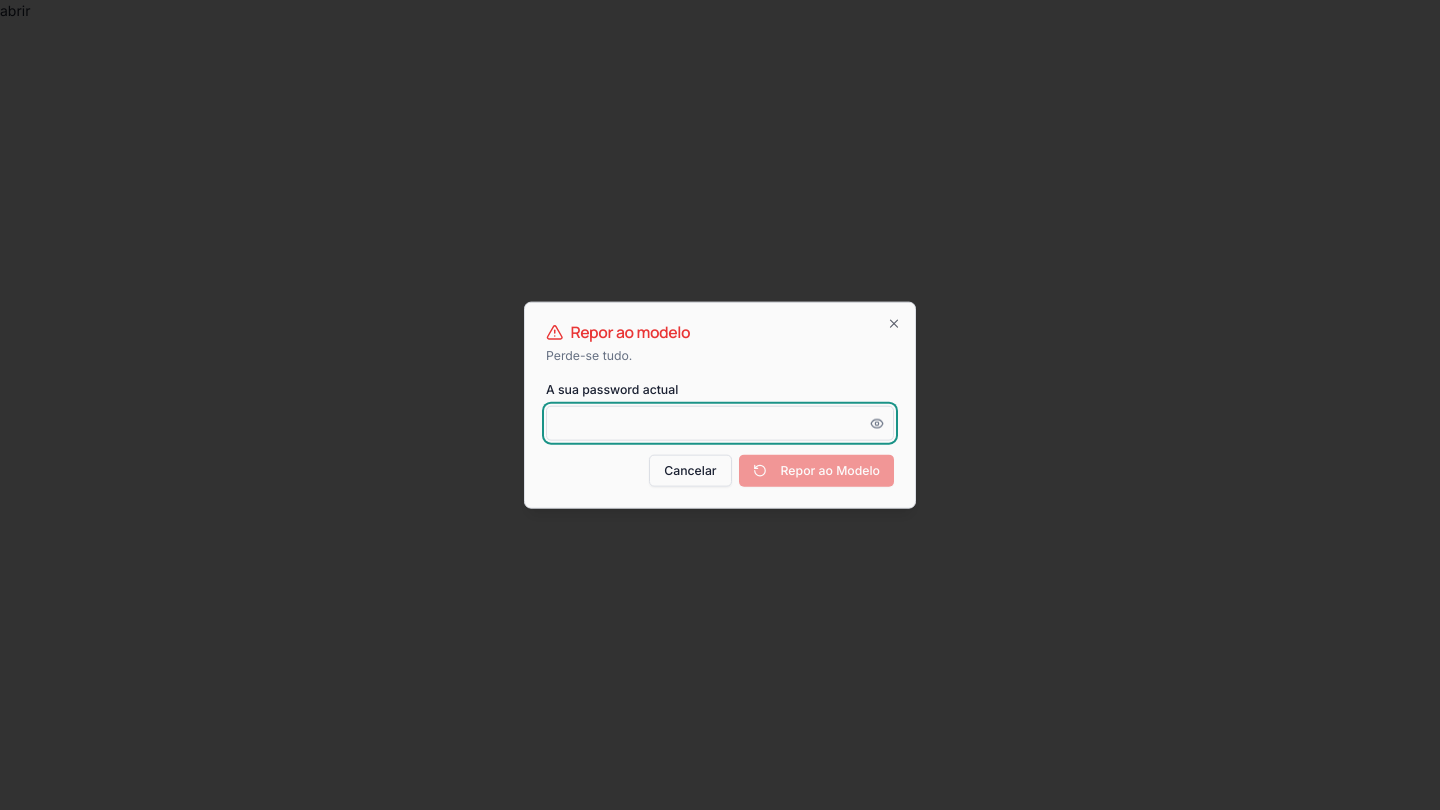
Test: ReporAoModeloDialog › password errada: mostra o erro no diálogo, limpa o campo e NÃO fecha
Step 1. Type "errada" into the password field labelled "A sua password actual" → {"x": 720, "y": 423}, box [546, 406, 894, 441]
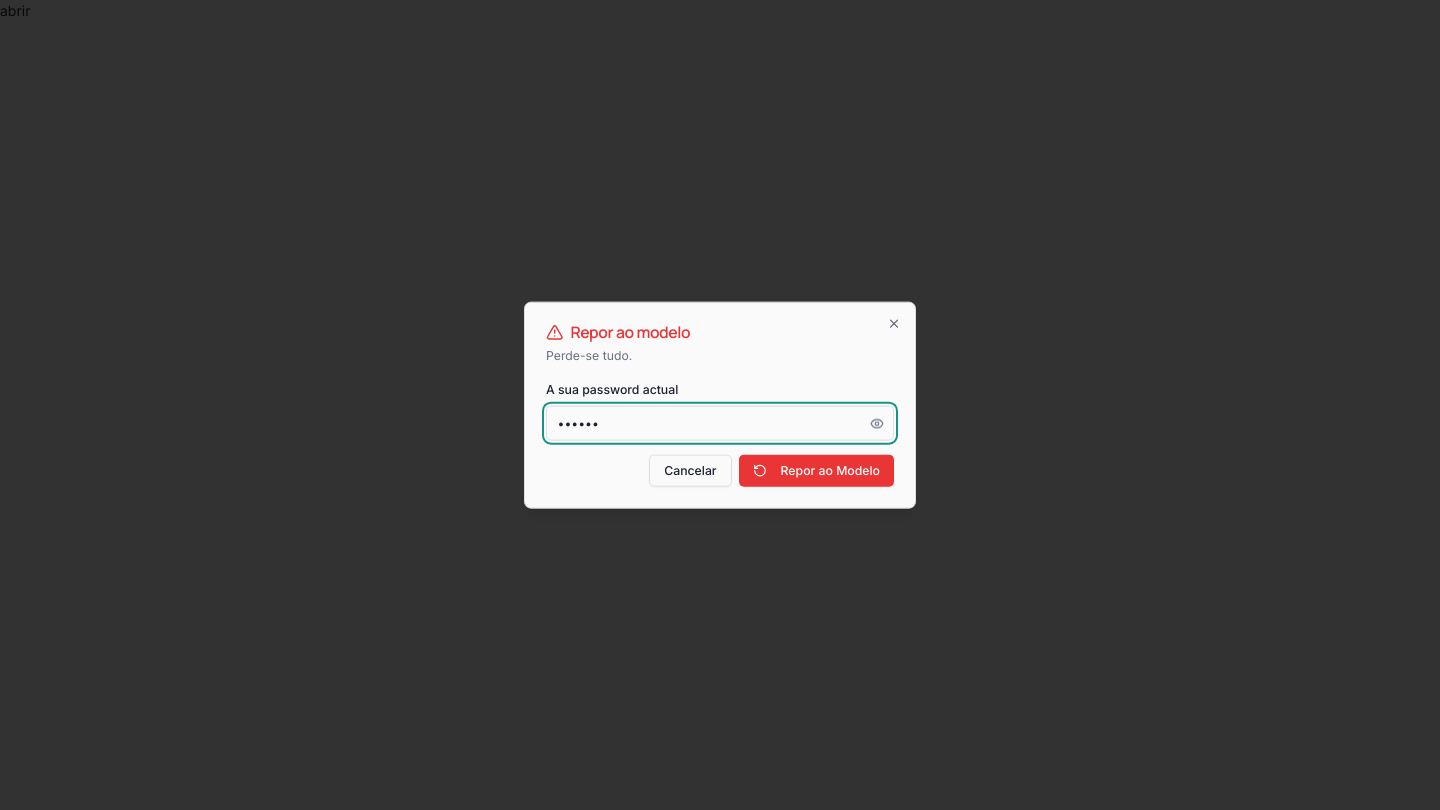
Step 2. Click the button "Repor ao Modelo" → {"x": 816, "y": 471}, box [739, 455, 894, 486]
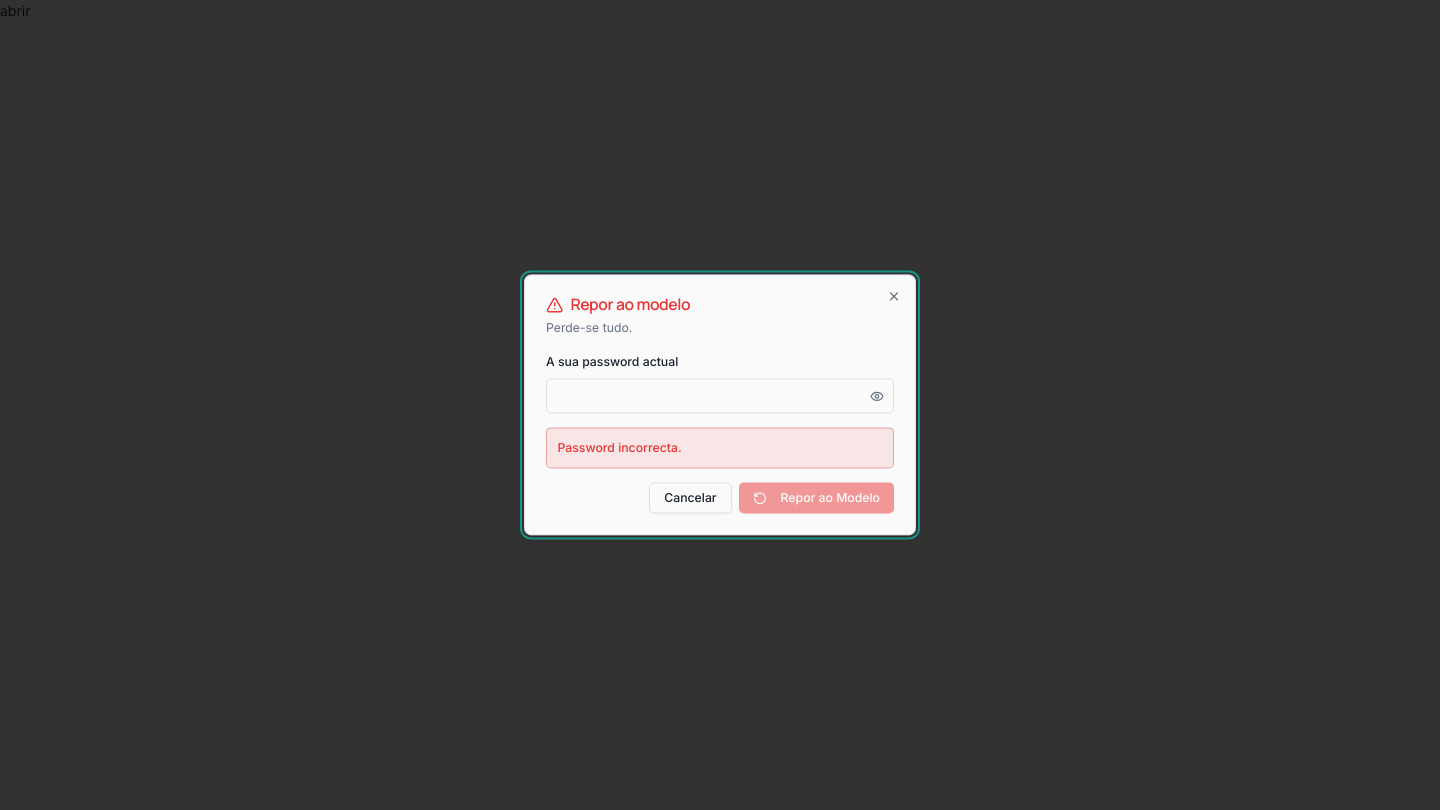
Result: the message with test id "repor-modelo-erro" reads "Password incorrecta." at [558, 440, 682, 455]
Result: the password field labelled "A sua password actual" is empty at [546, 379, 894, 414]
Result: the button "Repor ao Modelo" is disabled at [739, 482, 894, 514]
